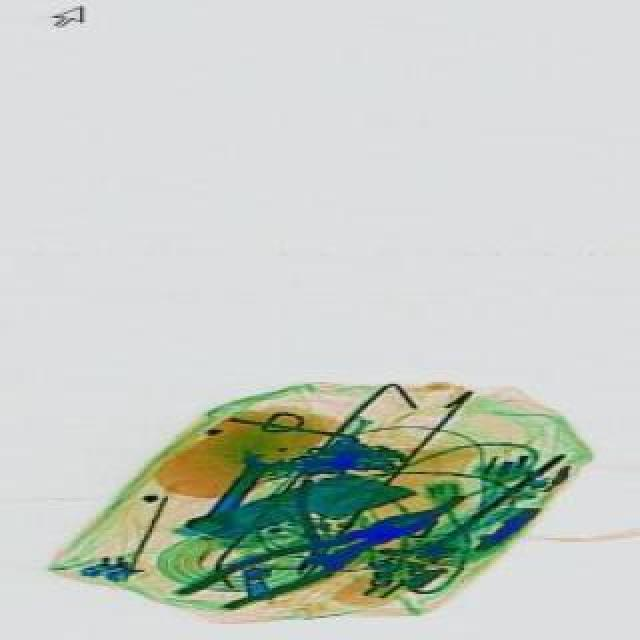scissors: (192, 440, 298, 548)
wrench: (264, 428, 474, 620), (184, 490, 454, 626)
